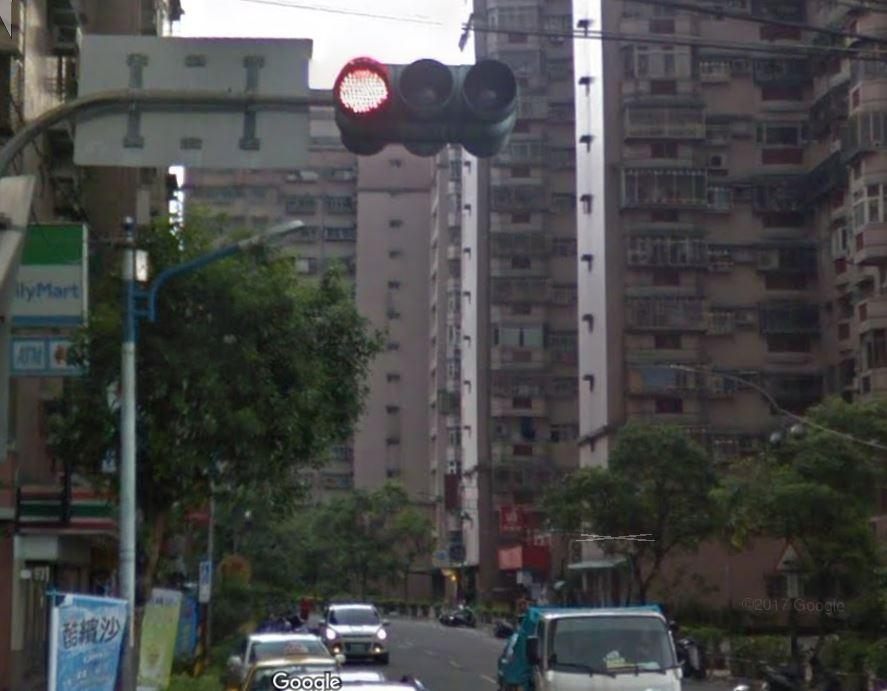red_traffic_light: (332, 55, 519, 123)
